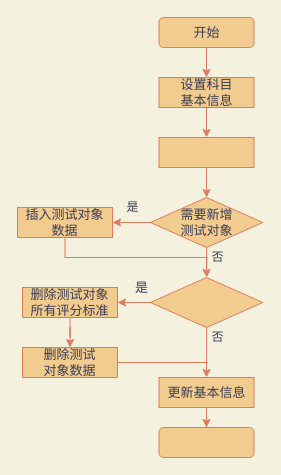
Image size: 281x475. Some labels were removed from this diagram. Each missing label, with the box of its shape:
查询当前科目 已有测试对象: (158, 136, 254, 168)
结束: (158, 426, 254, 458)
需要删除 测试对象: (149, 276, 263, 328)
